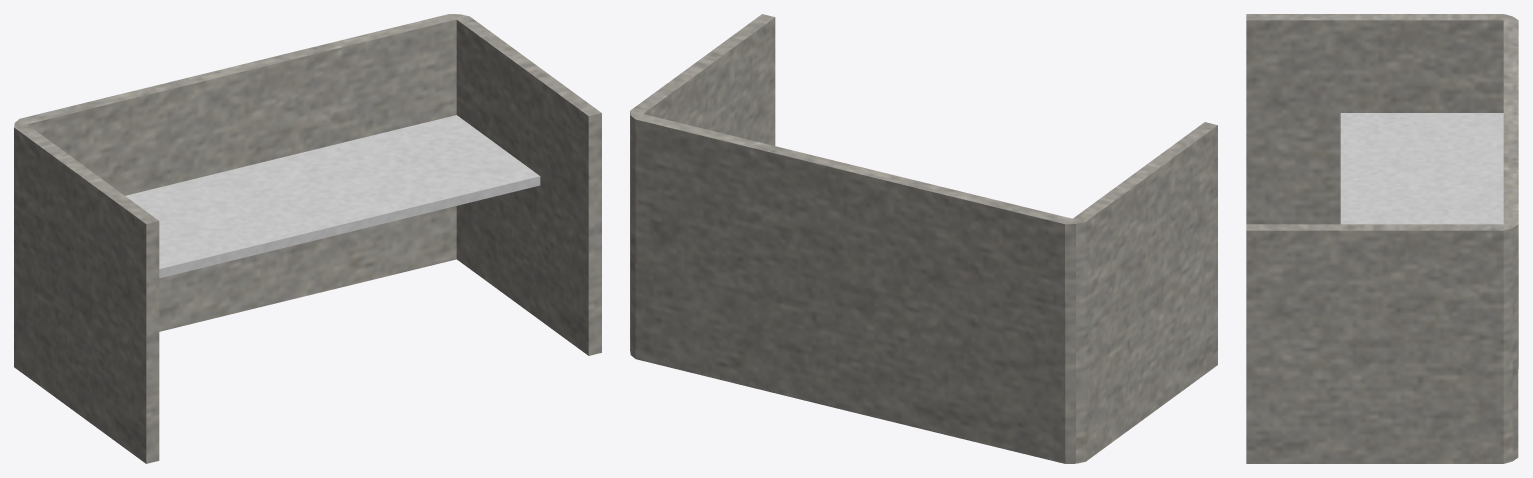
Rendered from divider_full_c_desk.obj.
3 renders of one model, left to right at view 1: azimuth 30°, elevation 25°; view 2: azimuth 150°, elevation 25°; view 3: azimuth 270°, elevation 25°, orthographic. The views are drawn at different scales.
Visible parts, largest first — view 1: divider_full_c_desk; view 2: divider_full_c_desk; view 3: divider_full_c_desk.
Boxes of the visible parts, box(x1,y1,x2,y2) form: divider_full_c_desk: box(14, 14, 601, 463); divider_full_c_desk: box(630, 14, 1217, 463); divider_full_c_desk: box(1246, 14, 1518, 463).
Bounding box in the file's own units: 2.99 × 1.5 × 1.59.
